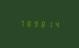eight: (39, 19, 45, 28), (24, 19, 30, 27)
four: (53, 20, 59, 28)
nine: (32, 19, 38, 27)
one: (46, 20, 52, 28)
seven: (17, 19, 23, 27)
